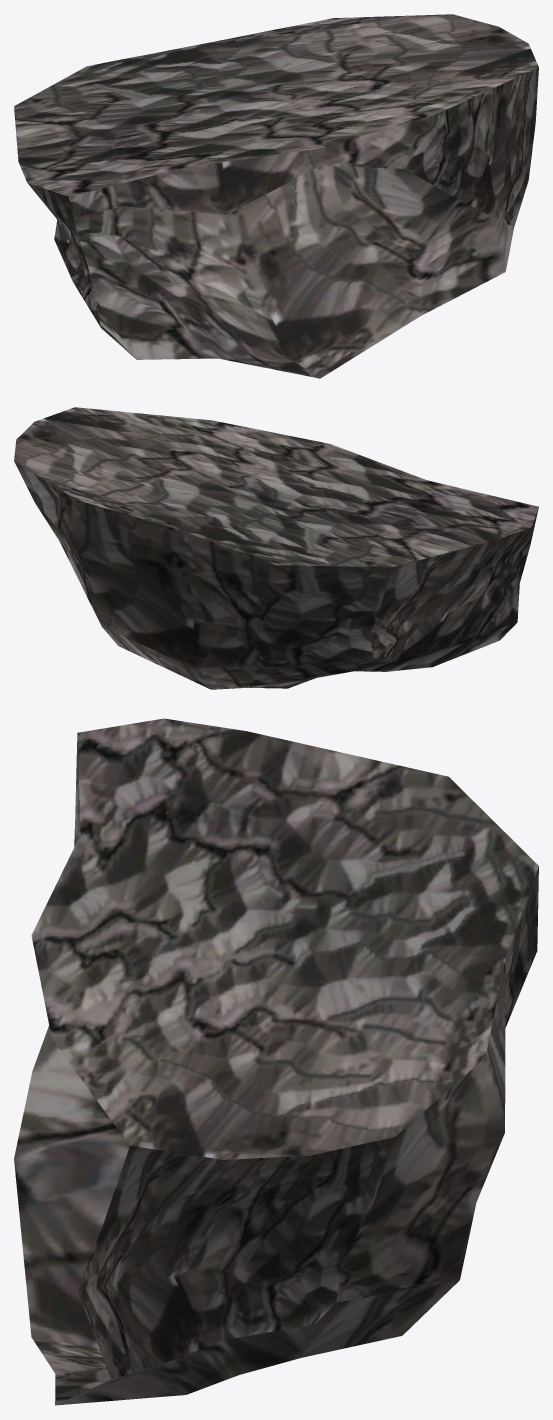
The model's file is INST_SM_LEDGEA.fbx.
3 renders of one model, top to bottom at view 1: azimuth 30°, elevation 25°; view 2: azimuth 150°, elevation 25°; view 3: azimuth 270°, elevation 25°, orthographic. The views are drawn at different scales.
Visible parts, largest first — view 1: INST_SM_LEDGEA; view 2: INST_SM_LEDGEA; view 3: INST_SM_LEDGEA.
Boxes of the visible parts, <box> form: INST_SM_LEDGEA: <box>14,14,538,378</box>; INST_SM_LEDGEA: <box>14,407,538,689</box>; INST_SM_LEDGEA: <box>14,718,538,1405</box>.
Bounding box in the file's own units: 42049 × 18436 × 21134.
Materials: 1 (1 with a texture image).
